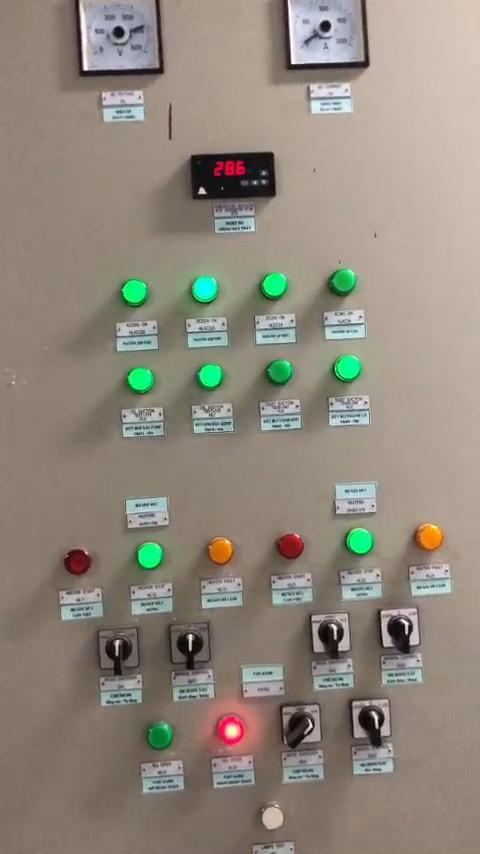led: (63, 548, 97, 580), (145, 721, 178, 753), (217, 715, 248, 748), (258, 271, 293, 300), (120, 279, 152, 310), (345, 528, 378, 558), (414, 521, 444, 553), (330, 266, 361, 296), (275, 530, 304, 562), (138, 544, 168, 574), (265, 356, 295, 385), (195, 361, 225, 390), (207, 536, 236, 566), (192, 276, 220, 305), (333, 356, 361, 385), (127, 369, 153, 398), (259, 804, 285, 830)
twist: (99, 626, 140, 674), (309, 611, 350, 656), (170, 622, 211, 665), (280, 701, 320, 745), (379, 609, 419, 650), (352, 698, 391, 739)
